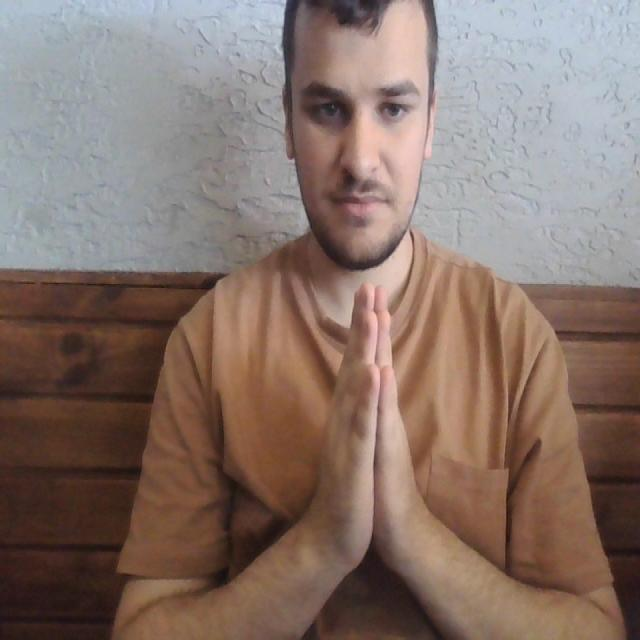Ozur-Dilemek: (308, 276, 425, 592)
